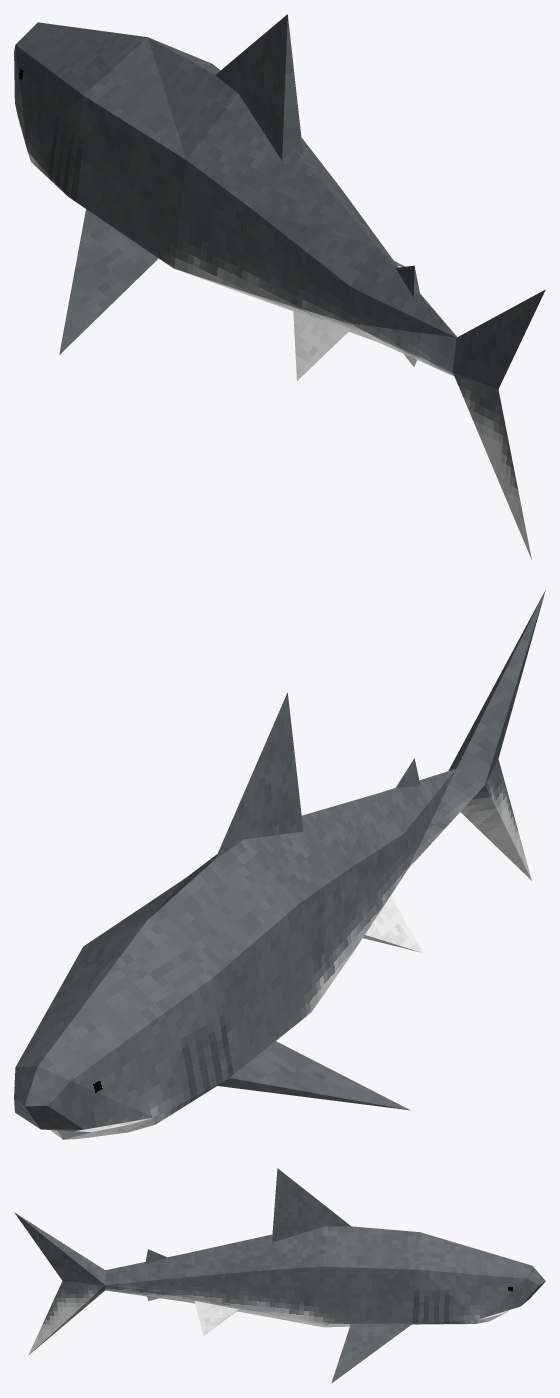
Rendered from Shark_GreatWhite_Shark_GreatWhite.glb.
The picture shows the model from 3 angles, top to bottom: view 1: azimuth 30°, elevation 25°; view 2: azimuth 150°, elevation 25°; view 3: azimuth 270°, elevation 25°; orthographic projection. The views are drawn at different scales.
Visible parts, largest first — view 1: Body, Tail1, Tail2; view 2: Body, Tail2, Tail1, Jaw; view 3: Body, Tail2, Tail1.
Boxes of the visible parts, <box> form: Body: <box>14,14,404,354</box>; Tail1: <box>243,153,398,380</box>; Tail2: <box>347,247,545,559</box>; Body: <box>14,692,410,1131</box>; Tail2: <box>378,590,545,880</box>; Tail1: <box>301,793,422,954</box>; Jaw: <box>50,1117,155,1139</box>; Body: <box>268,1168,545,1383</box>; Tail2: <box>14,1212,185,1355</box>; Tail1: <box>185,1235,267,1335</box>.
Bounding box in the file's own units: 1.65 × 1.65 × 4.23.
Materials: 1 (1 with a texture image).
